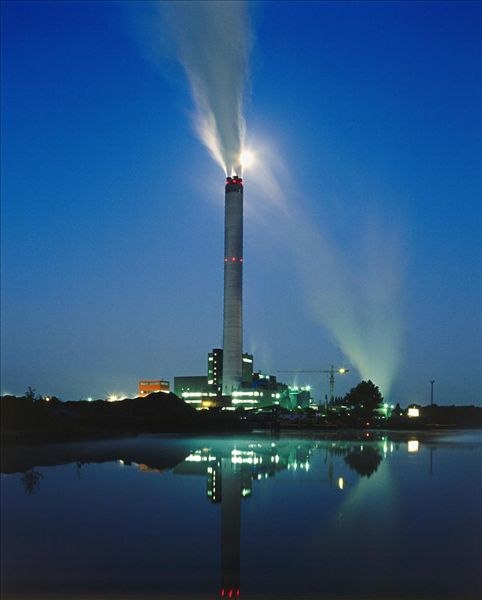dust: (146, 3, 268, 180)
